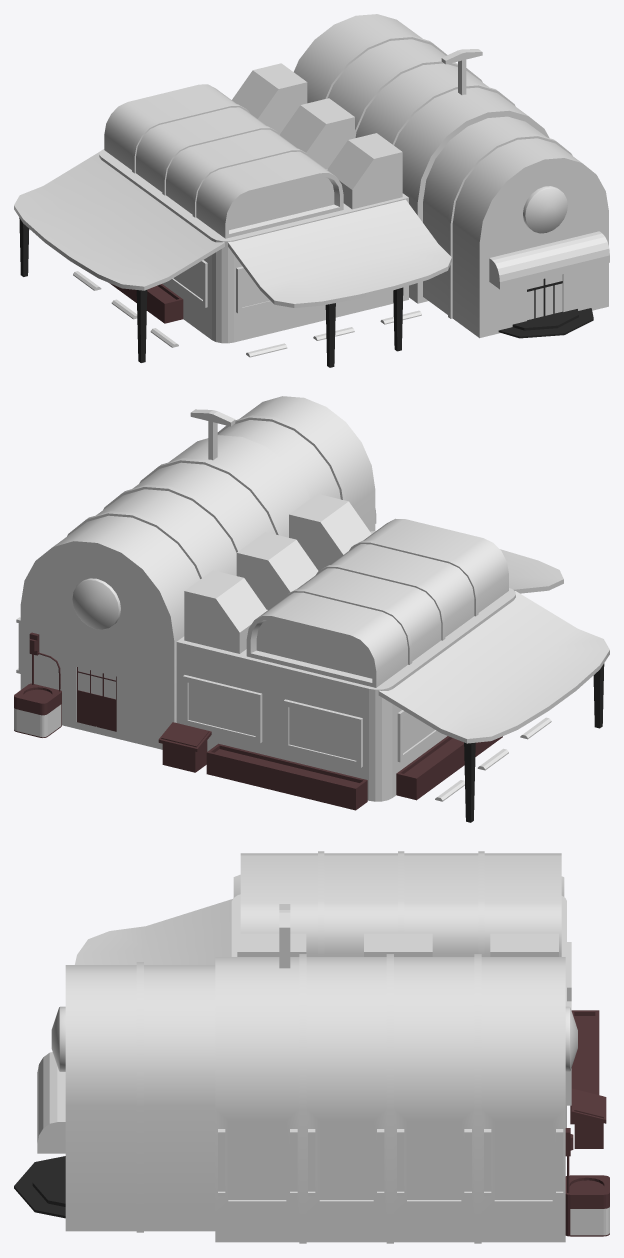
The model's file is 02_Canteen_80s.fbx.
3 views of the same model, one above another, from view 1: azimuth 30°, elevation 25°; view 2: azimuth 150°, elevation 25°; view 3: azimuth 270°, elevation 25° (orthographic). The views are drawn at different scales.
Visible parts, largest first — view 1: Cube.001; view 2: Cube.001; view 3: Cube.001.
Boxes of the visible parts, box(x1,y1,x2,y2) form: Cube.001: box(14, 14, 609, 367); Cube.001: box(14, 396, 609, 822); Cube.001: box(14, 851, 609, 1243).
Size of the model in its own units: 46.16 by 21.91 by 41.22.
